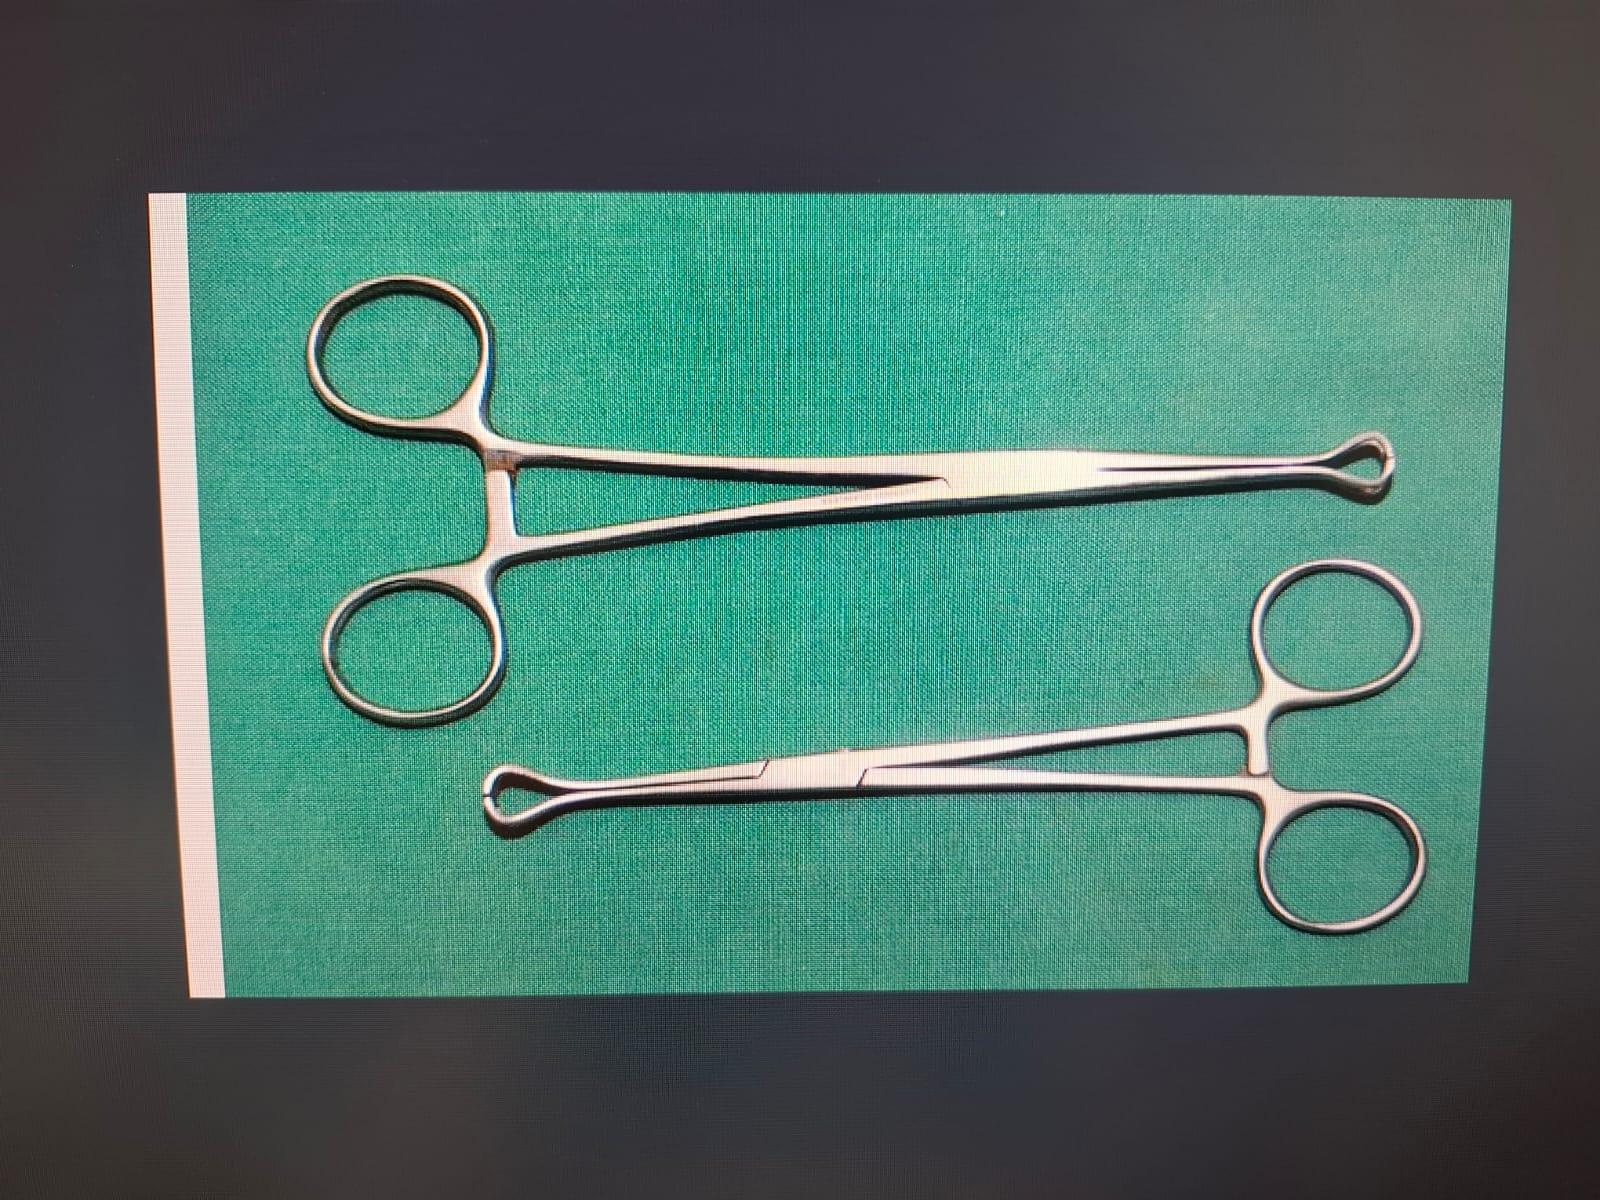Babcock Forceps: (289, 256, 1402, 734), (467, 539, 1443, 948)
